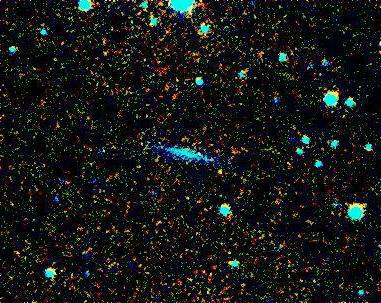star: (207, 154, 237, 184)
